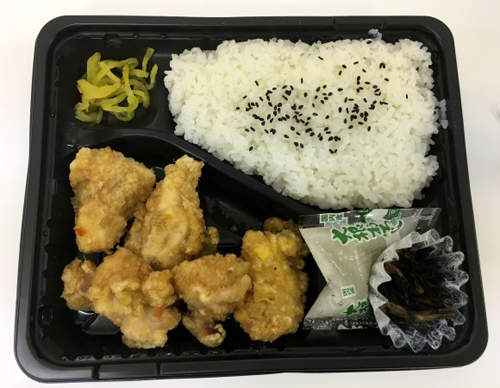rice: (298, 45, 421, 193), (190, 49, 295, 159)
